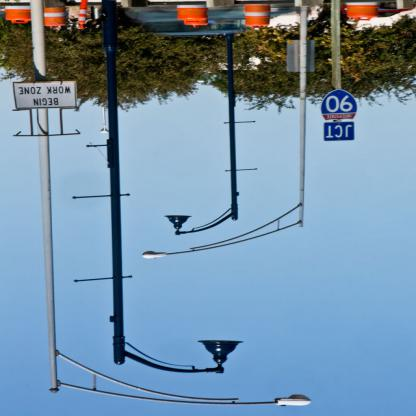Streetlights 1: (9, 0, 314, 413), (138, 0, 323, 266)
